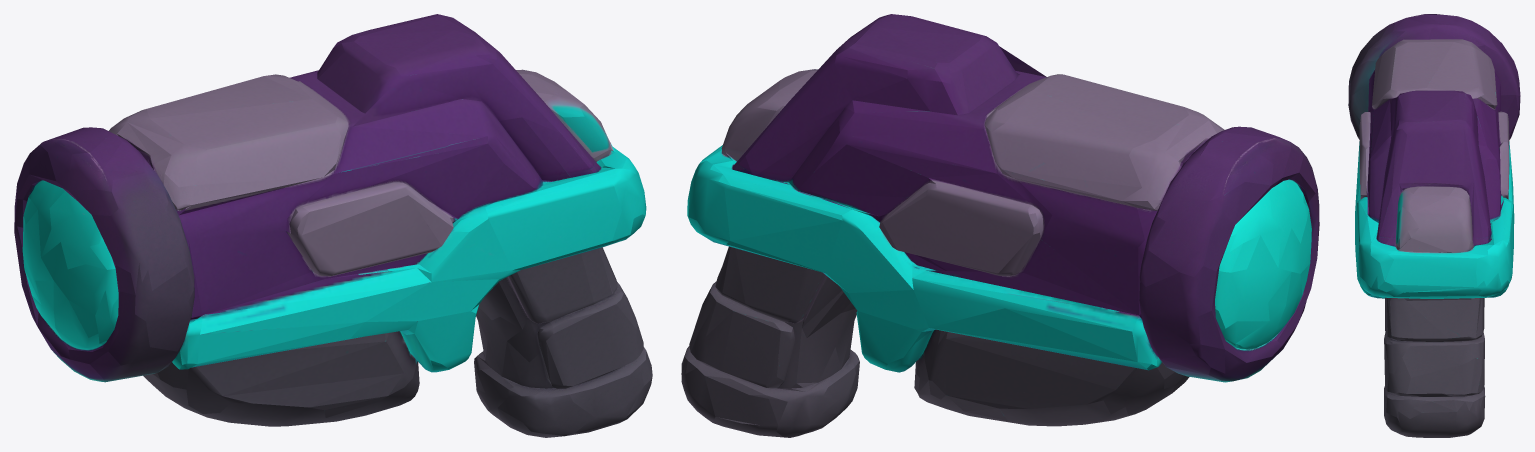
The model's file is iska_waffe_reduziert.glb.
3 renders of one model, left to right at view 1: azimuth 30°, elevation 25°; view 2: azimuth 150°, elevation 25°; view 3: azimuth 270°, elevation 25°, orthographic. The views are drawn at different scales.
Visible parts, largest first — view 1: output_unwrapped; view 2: output_unwrapped; view 3: output_unwrapped.
Part boxes in pixels (left/top/right/bottom): output_unwrapped: left=14, top=14, right=652, bottom=437; output_unwrapped: left=681, top=14, right=1319, bottom=437; output_unwrapped: left=1348, top=14, right=1520, bottom=437.
Bounding box in the file's own units: 1.9 × 1.28 × 0.7269.
1 material, 1 textured.
